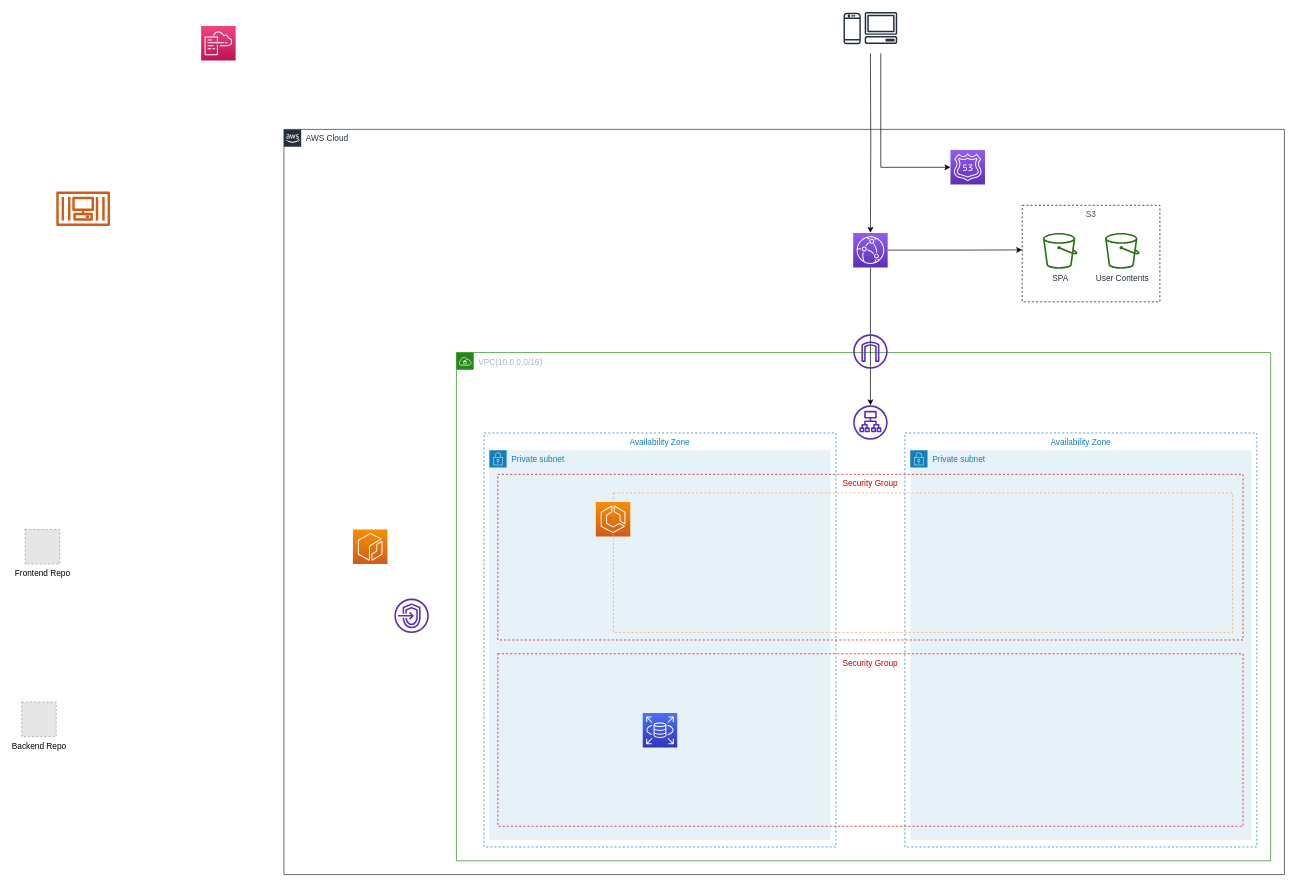
Some shapes in this 1297 by 887 pixel diagram are drawn without their labels. Grey dashed boxes stand in for pictures. Each missing label, with the centre of its shape:
"CloudFromation" belongs at point 218,42.
"CloudFront" belongs at point 870,249.
"ECR" belongs at point 369,546.
"ECS Cluster on Fargate" belongs at point 612,518.
"RDS" belongs at point 659,730.
"Route53" belongs at point 967,167.
"VPC Endpoint" belongs at point 411,615.
